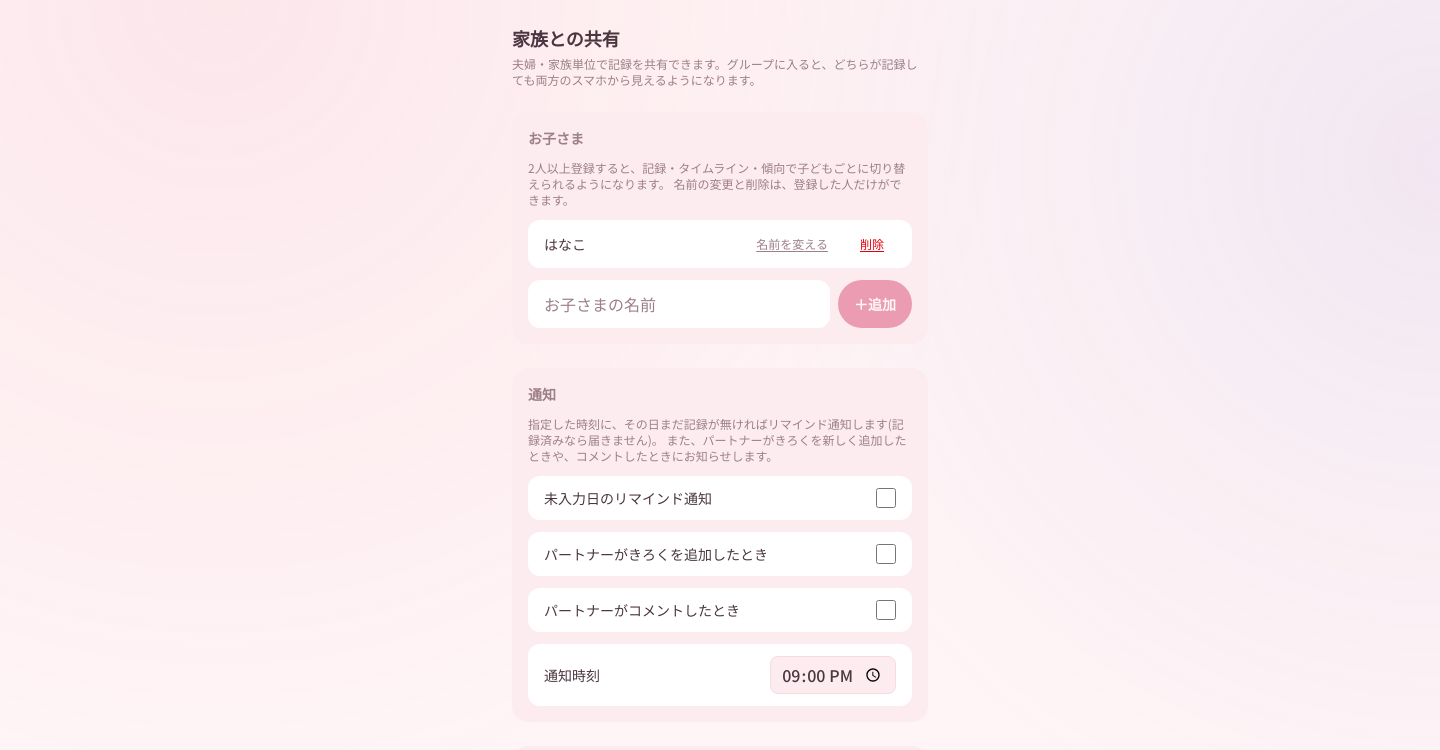
Test: GroupPage: お子さま › 削除は確認ダイアログを経てから実行される
Expected: the text "はなこ" is shown, left=544, top=234, right=586, bottom=254
Click the button "削除": (872, 244) left=848, top=232, right=896, bottom=256
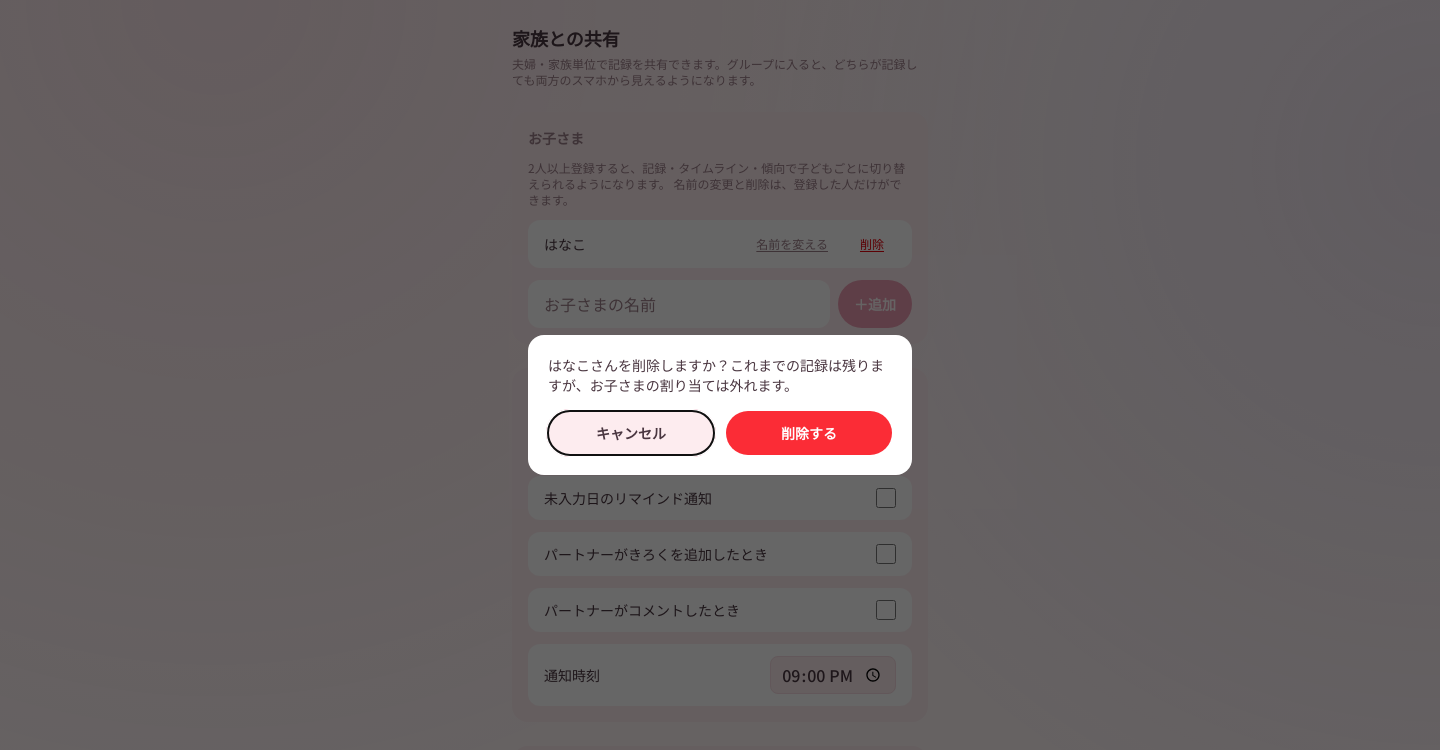
Click the button "削除する": (809, 433) left=726, top=411, right=892, bottom=455
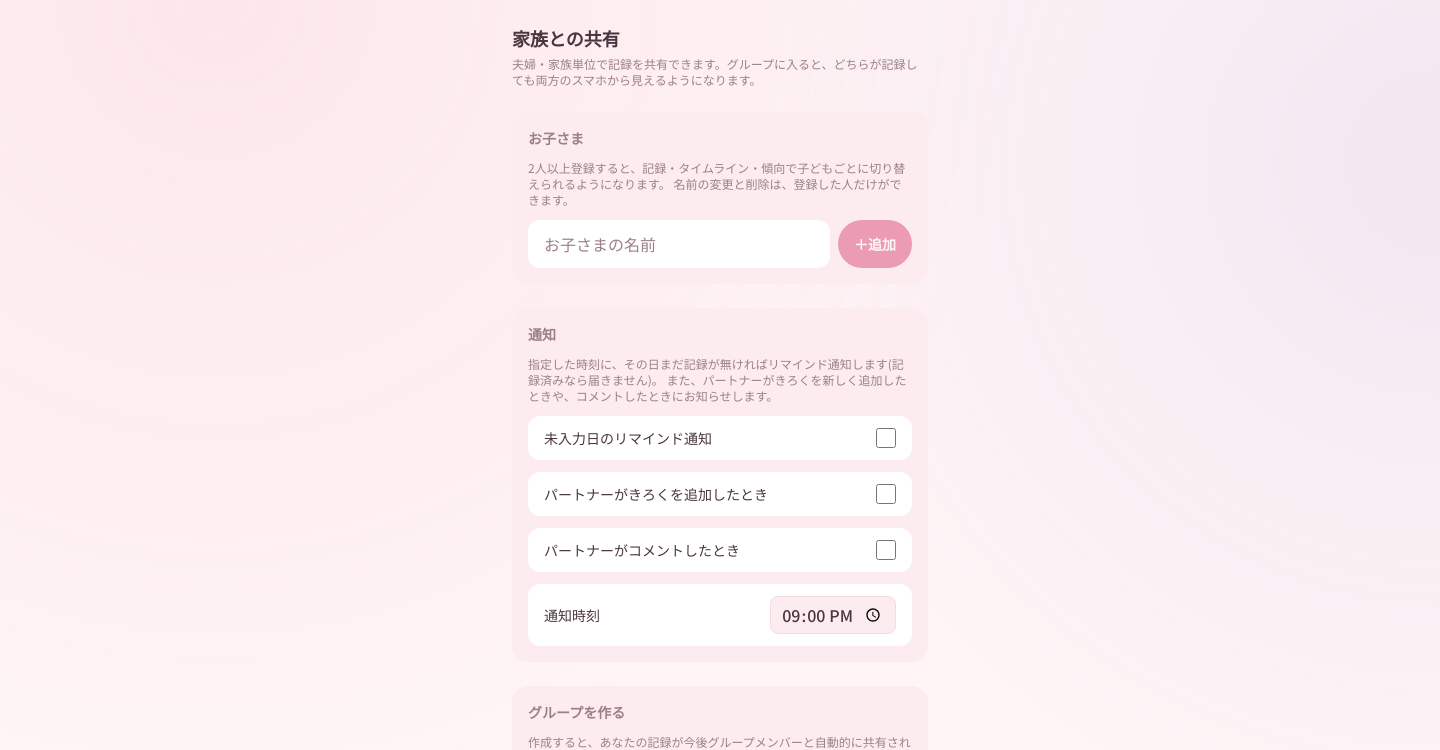
Expected: the text "はなこ" is gone
